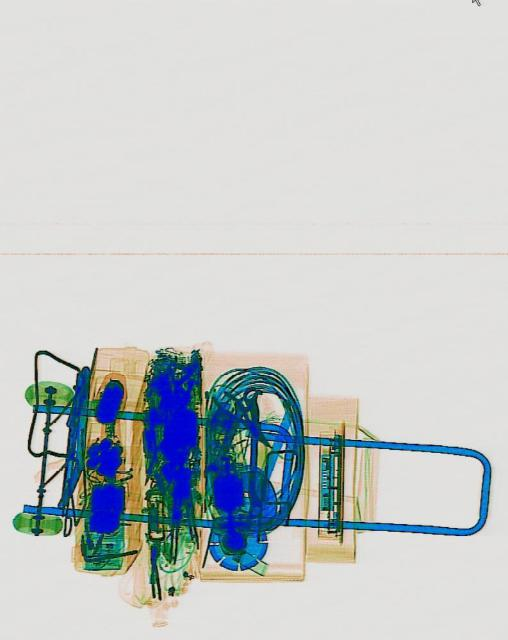Pliers: (208, 382, 274, 454)
Wrench: (199, 392, 253, 483), (241, 384, 261, 520)
